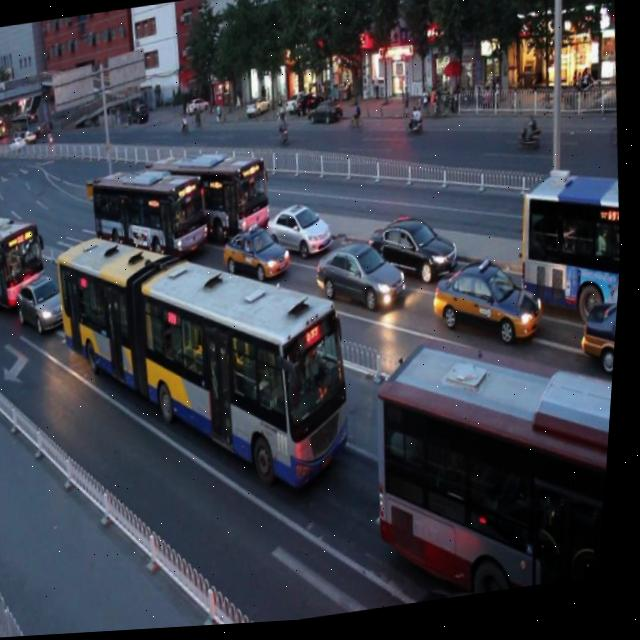car: (430, 251, 550, 363), (311, 231, 409, 324), (369, 208, 464, 292), (219, 216, 294, 290), (263, 193, 336, 267), (400, 573, 529, 610), (15, 267, 79, 337), (580, 295, 623, 377)
van: (42, 196, 371, 522), (367, 327, 621, 613), (513, 169, 630, 325), (86, 151, 216, 278), (146, 135, 278, 254), (0, 196, 51, 303)
